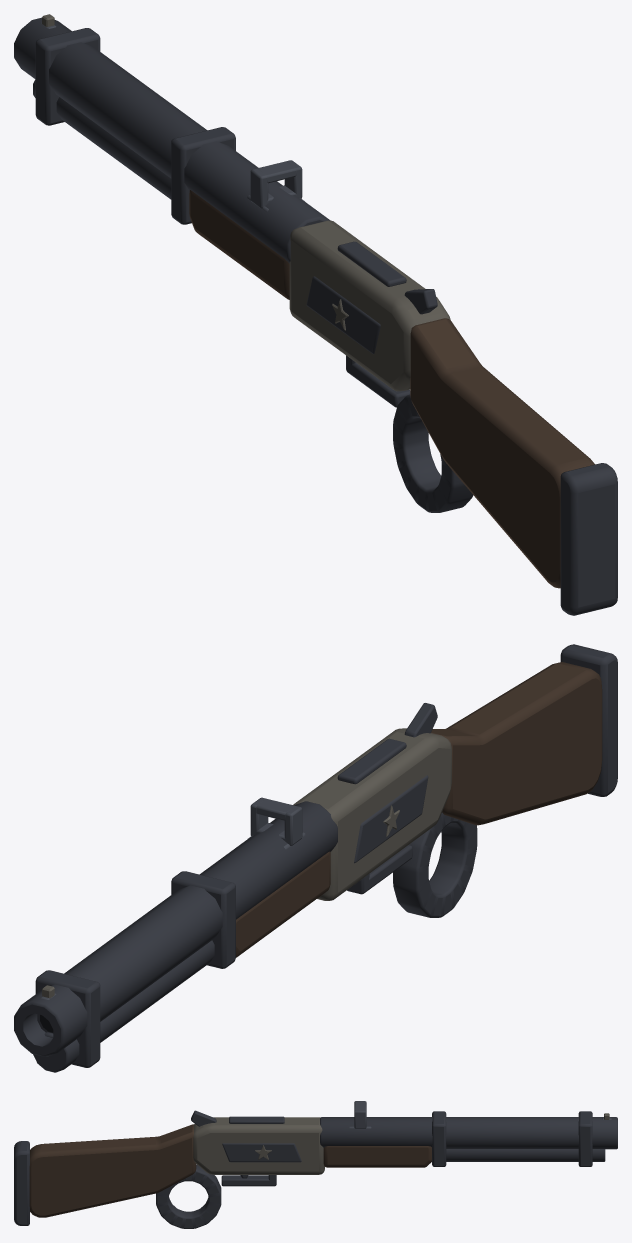
Rendered from w_lever.glb.
3 renders of one model, top to bottom at view 1: azimuth 30°, elevation 25°; view 2: azimuth 150°, elevation 25°; view 3: azimuth 270°, elevation 25°, orthographic. The views are drawn at different scales.
Parts seen in each view (by area): view 1: barrel_wzB, stock_wzA, body_wzA, stock_wzB, lever_wzN, fore_wzA, body_wzN, sight_wzN; view 2: barrel_wzB, stock_wzA, body_wzA, lever_wzN, fore_wzA, body_wzN, stock_wzB, sight_wzN, lhammer_wzN; view 3: barrel_wzB, stock_wzA, body_wzA, lever_wzN, fore_wzA, body_wzN, stock_wzB, sight_wzN, lhammer_wzN.
Part boxes in pixels (<box>): barrel_wzB: <box>14,17,330,263</box>; stock_wzA: <box>410,318,594,588</box>; body_wzA: <box>289,220,450,391</box>; stock_wzB: <box>560,463,617,615</box>; lever_wzN: <box>346,355,473,512</box>; fore_wzA: <box>189,190,289,299</box>; body_wzN: <box>306,241,406,353</box>; sight_wzN: <box>40,22,304,211</box>; barrel_wzB: <box>14,801,337,1072</box>; stock_wzA: <box>431,662,602,825</box>; body_wzA: <box>293,728,451,900</box>; lever_wzN: <box>347,812,477,917</box>; fore_wzA: <box>236,851,330,957</box>; body_wzN: <box>337,738,428,863</box>; stock_wzB: <box>560,644,617,796</box>; sight_wzN: <box>40,797,305,999</box>; lhammer_wzN: <box>404,703,437,737</box>; barrel_wzB: <box>320,1111,617,1166</box>; stock_wzA: <box>29,1124,196,1217</box>; body_wzA: <box>193,1117,324,1174</box>; lever_wzN: <box>156,1164,276,1228</box>; fore_wzA: <box>323,1146,431,1167</box>; body_wzN: <box>222,1116,301,1162</box>; stock_wzB: <box>14,1141,29,1225</box>; sight_wzN: <box>349,1101,611,1128</box>; lhammer_wzN: <box>191,1110,216,1126</box>.
Bounding box in the file's own units: 0.068 × 0.2617 × 1.2.
